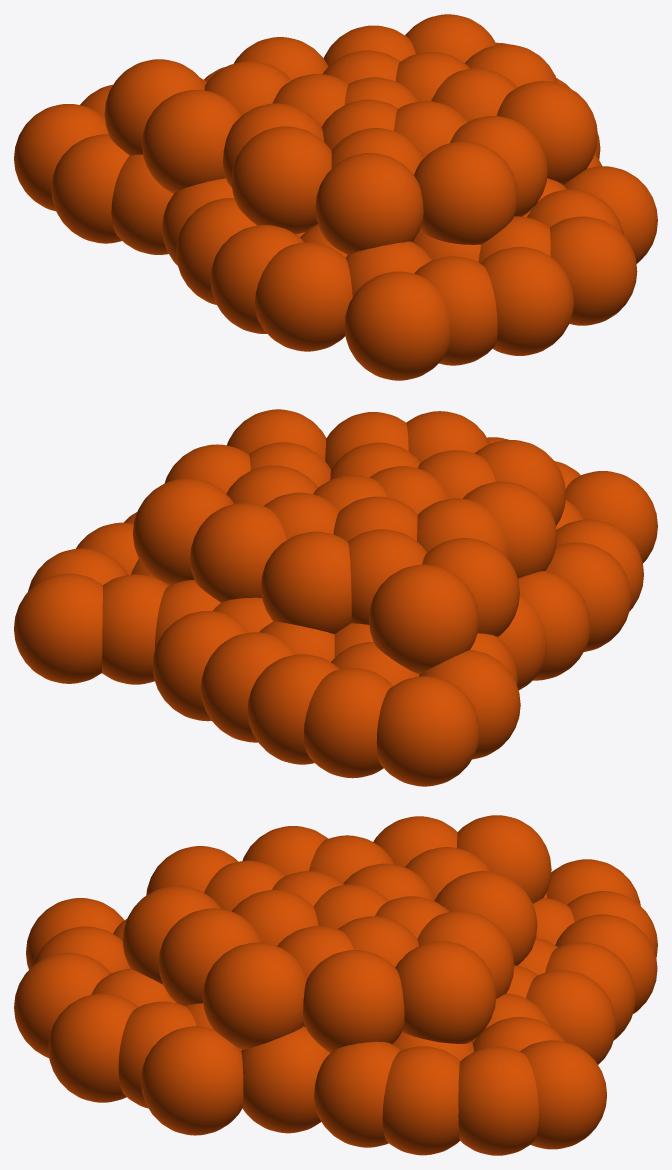
File: roe.fbx
3 renders of one model, top to bottom at view 1: azimuth 30°, elevation 25°; view 2: azimuth 150°, elevation 25°; view 3: azimuth 270°, elevation 25°, orthographic.
Visible parts, largest first — view 1: Sphere.023; view 2: Sphere.023; view 3: Sphere.023.
Part boxes in pixels (x1=…): Sphere.023: x1=14, y1=14, x2=657, y2=380; Sphere.023: x1=14, y1=409, x2=657, y2=786; Sphere.023: x1=14, y1=815, x2=657, y2=1155.
Size of the model in its own units: 0.3088 by 0.1036 by 0.3587.
